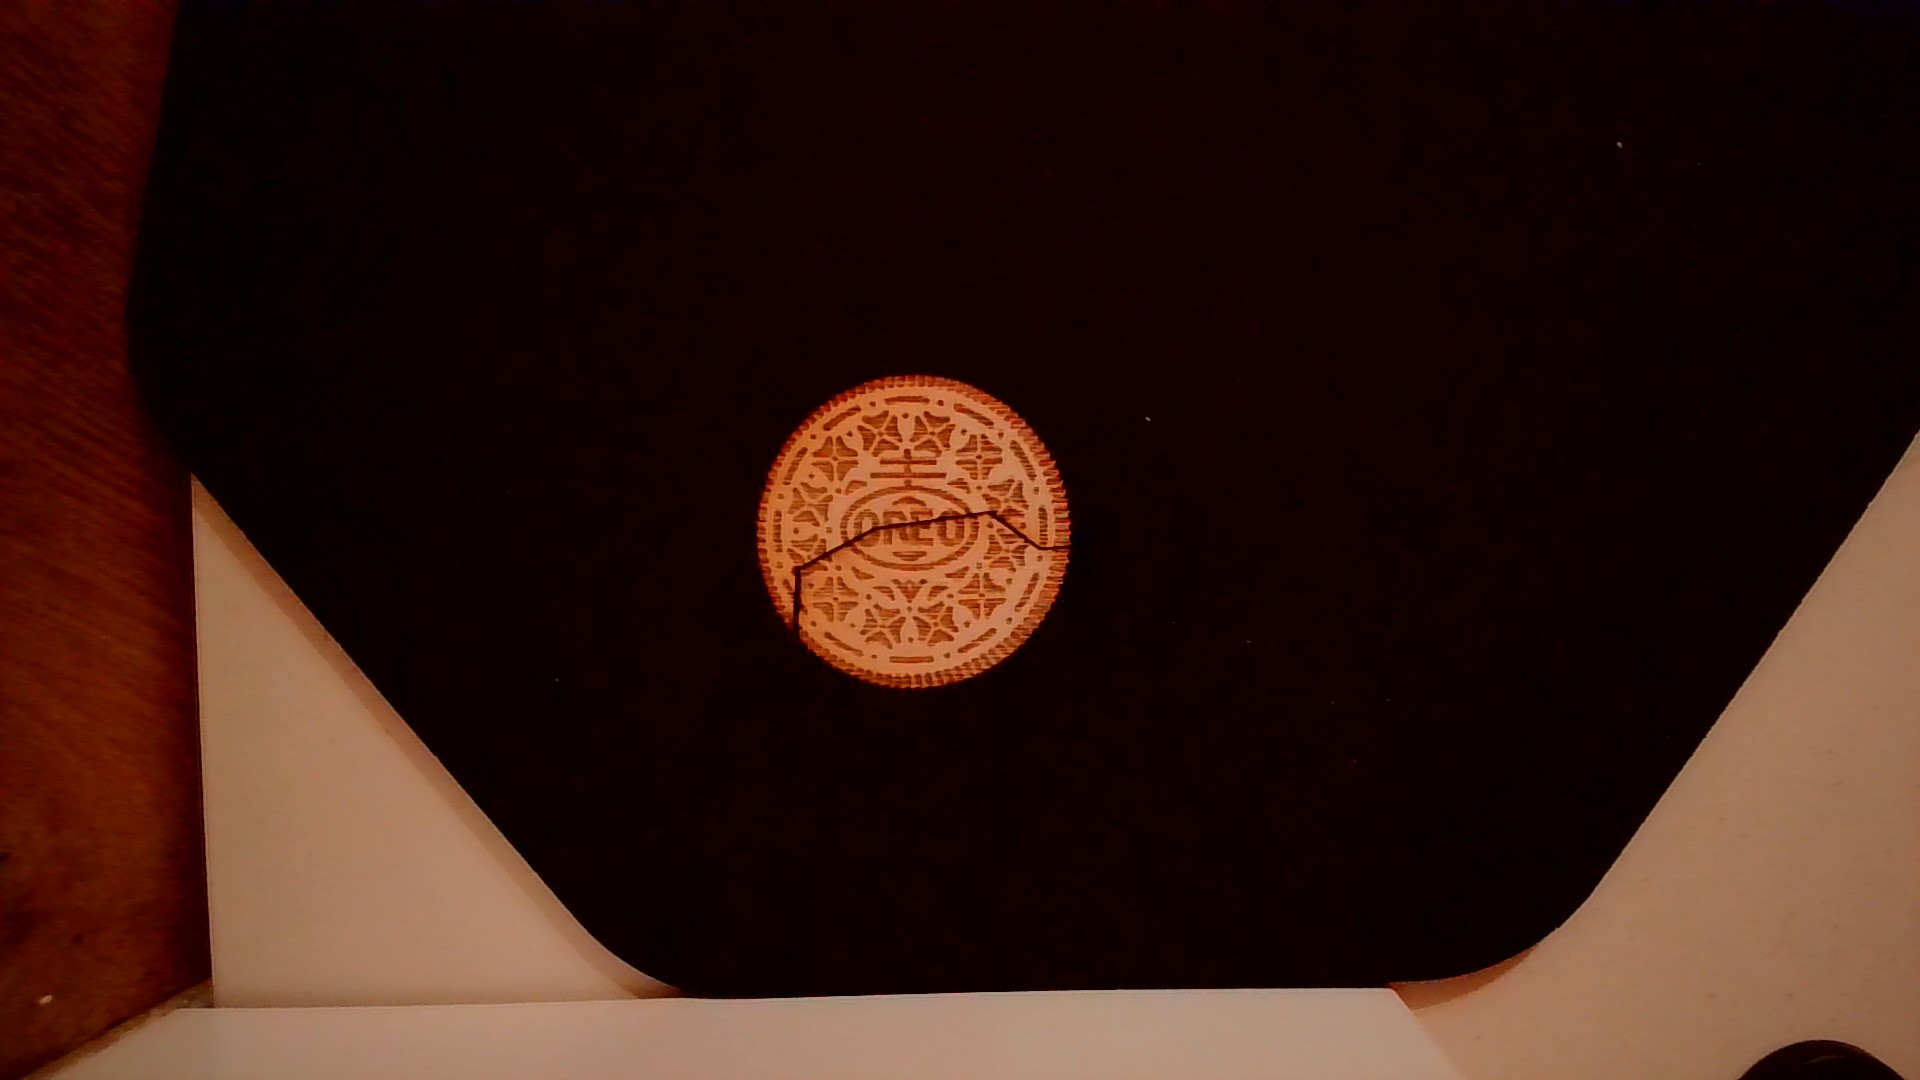Fissure: (774, 502, 1083, 644)
Oréo: (752, 367, 1075, 694)
